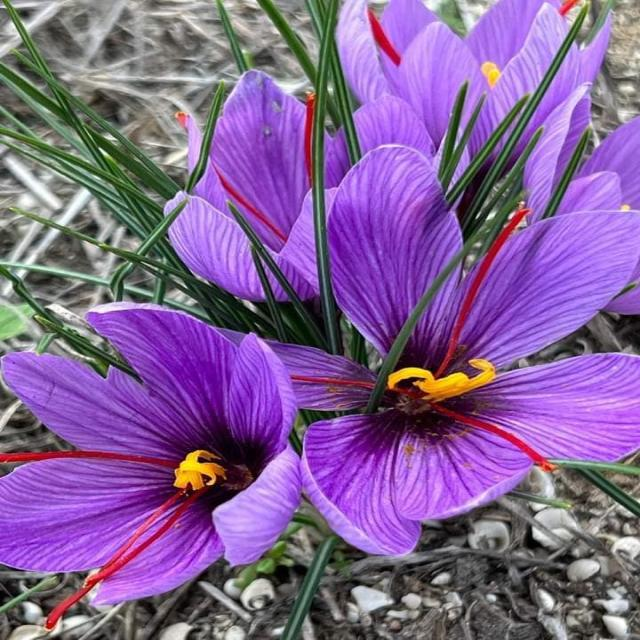Flower: (322, 201, 640, 535), (2, 304, 302, 626)
stigma: (389, 202, 563, 367), (18, 504, 202, 632), (439, 399, 564, 484), (0, 436, 232, 477), (208, 161, 286, 252), (290, 361, 380, 403)
